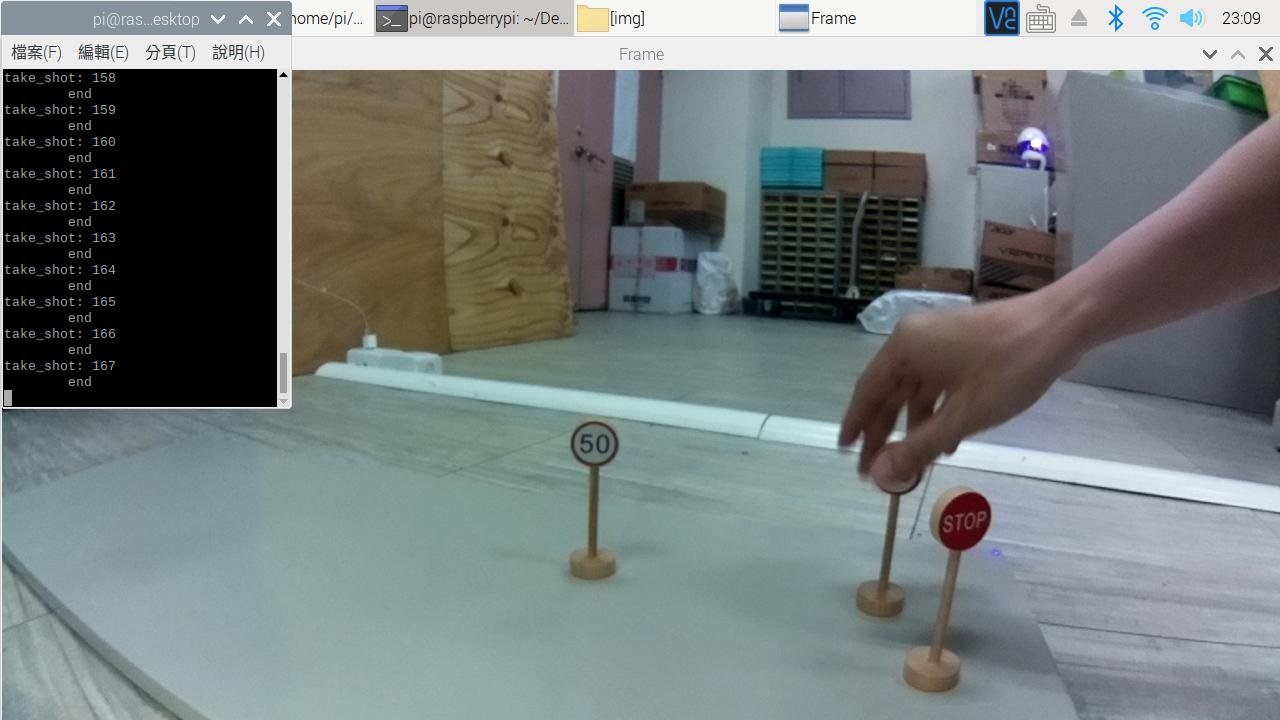Speed50: (566, 418, 637, 483)
Stop: (920, 482, 1003, 569)
